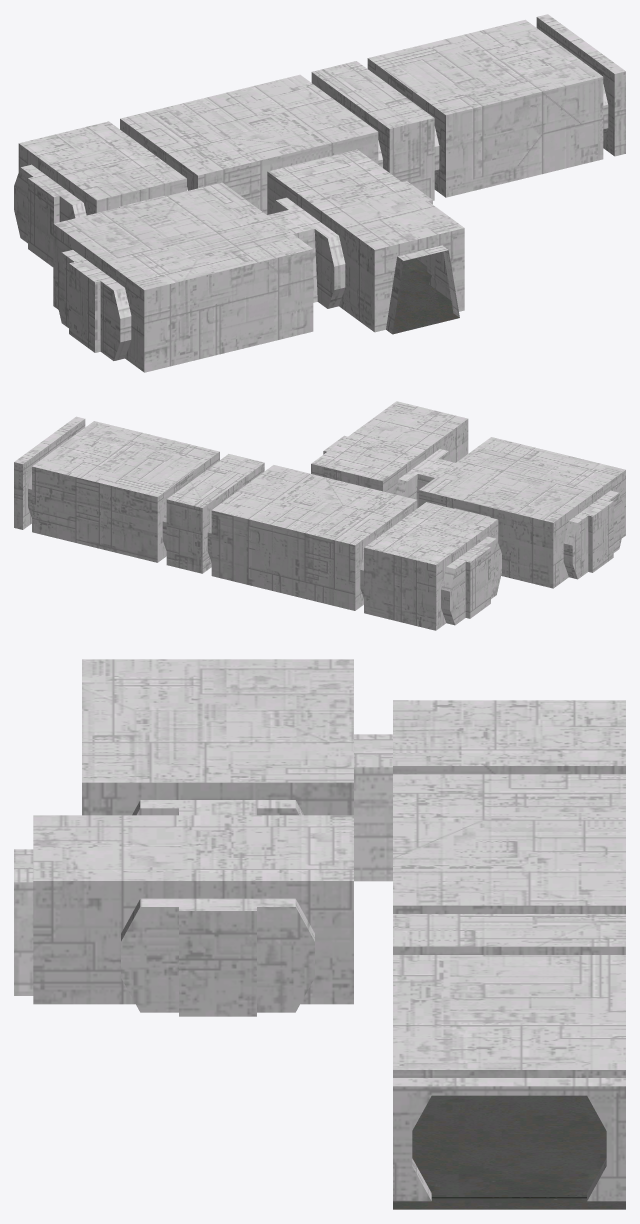
File: thm_spc_star_destroyer_s01_r10_flightsecurity_mesh_r10.fbx
The picture shows the model from 3 angles, top to bottom: view 1: azimuth 30°, elevation 25°; view 2: azimuth 150°, elevation 25°; view 3: azimuth 270°, elevation 25°; orthographic projection. The views are drawn at different scales.
Visible parts, largest first — view 1: mesh_node; view 2: mesh_node; view 3: mesh_node.
Part boxes in pixels (x1=…): mesh_node: x1=14, y1=14, x2=625, y2=372; mesh_node: x1=14, y1=401, x2=625, y2=630; mesh_node: x1=14, y1=659, x2=625, y2=1209.
Size of the model in its own units: 26.75 by 3.5 by 15.75.
2 materials, 2 textured.
